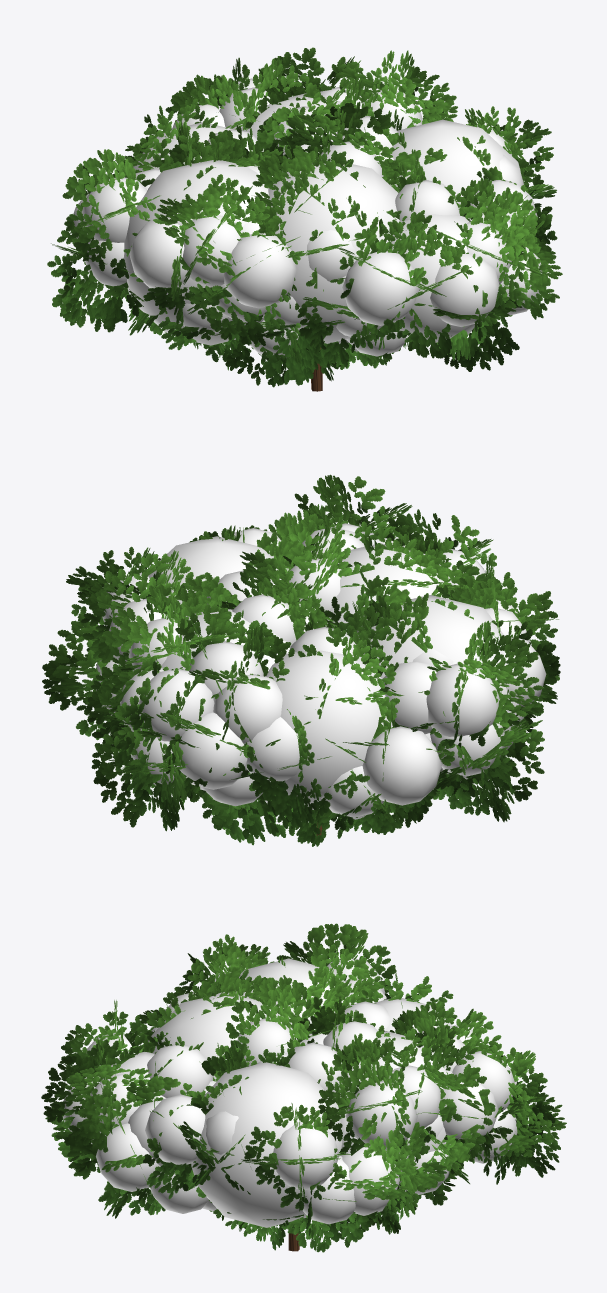
Rendered from bush_mound.gltf.
The picture shows the model from 3 angles, top to bottom: view 1: azimuth 30°, elevation 25°; view 2: azimuth 150°, elevation 25°; view 3: azimuth 270°, elevation 25°; orthographic projection. The views are drawn at different scales.
Parts seen in each view (by area): view 1: bush_mound_leaves_LOD0, bush_mound_shadow_LOD0; view 2: bush_mound_leaves_LOD0, bush_mound_shadow_LOD0; view 3: bush_mound_leaves_LOD0, bush_mound_shadow_LOD0.
Part boxes in pixels (x1,y1,x2,y2): bush_mound_leaves_LOD0: (47, 47, 562, 387); bush_mound_shadow_LOD0: (72, 78, 542, 357); bush_mound_leaves_LOD0: (42, 474, 560, 846); bush_mound_shadow_LOD0: (93, 523, 546, 819); bush_mound_leaves_LOD0: (41, 923, 566, 1252); bush_mound_shadow_LOD0: (62, 958, 517, 1227).
Size of what is drawn, in the model's own units: 2.64 by 1.5 by 2.73.
Materials: 3 (2 with a texture image).
